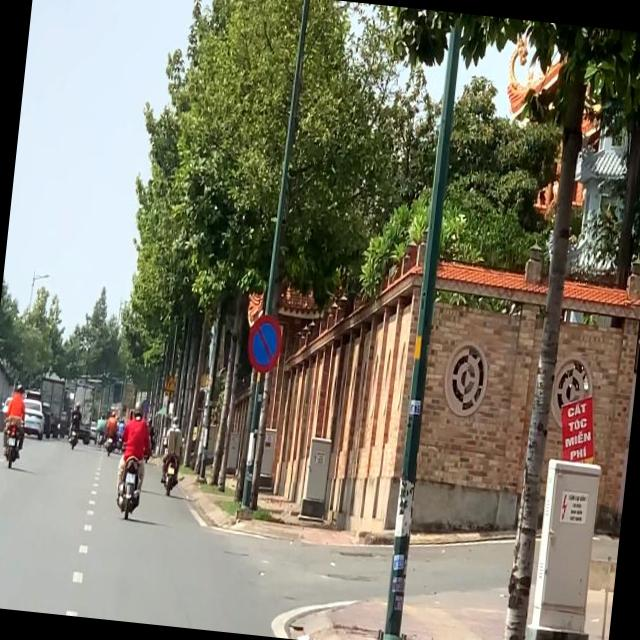P-131a: (245, 314, 285, 374)
